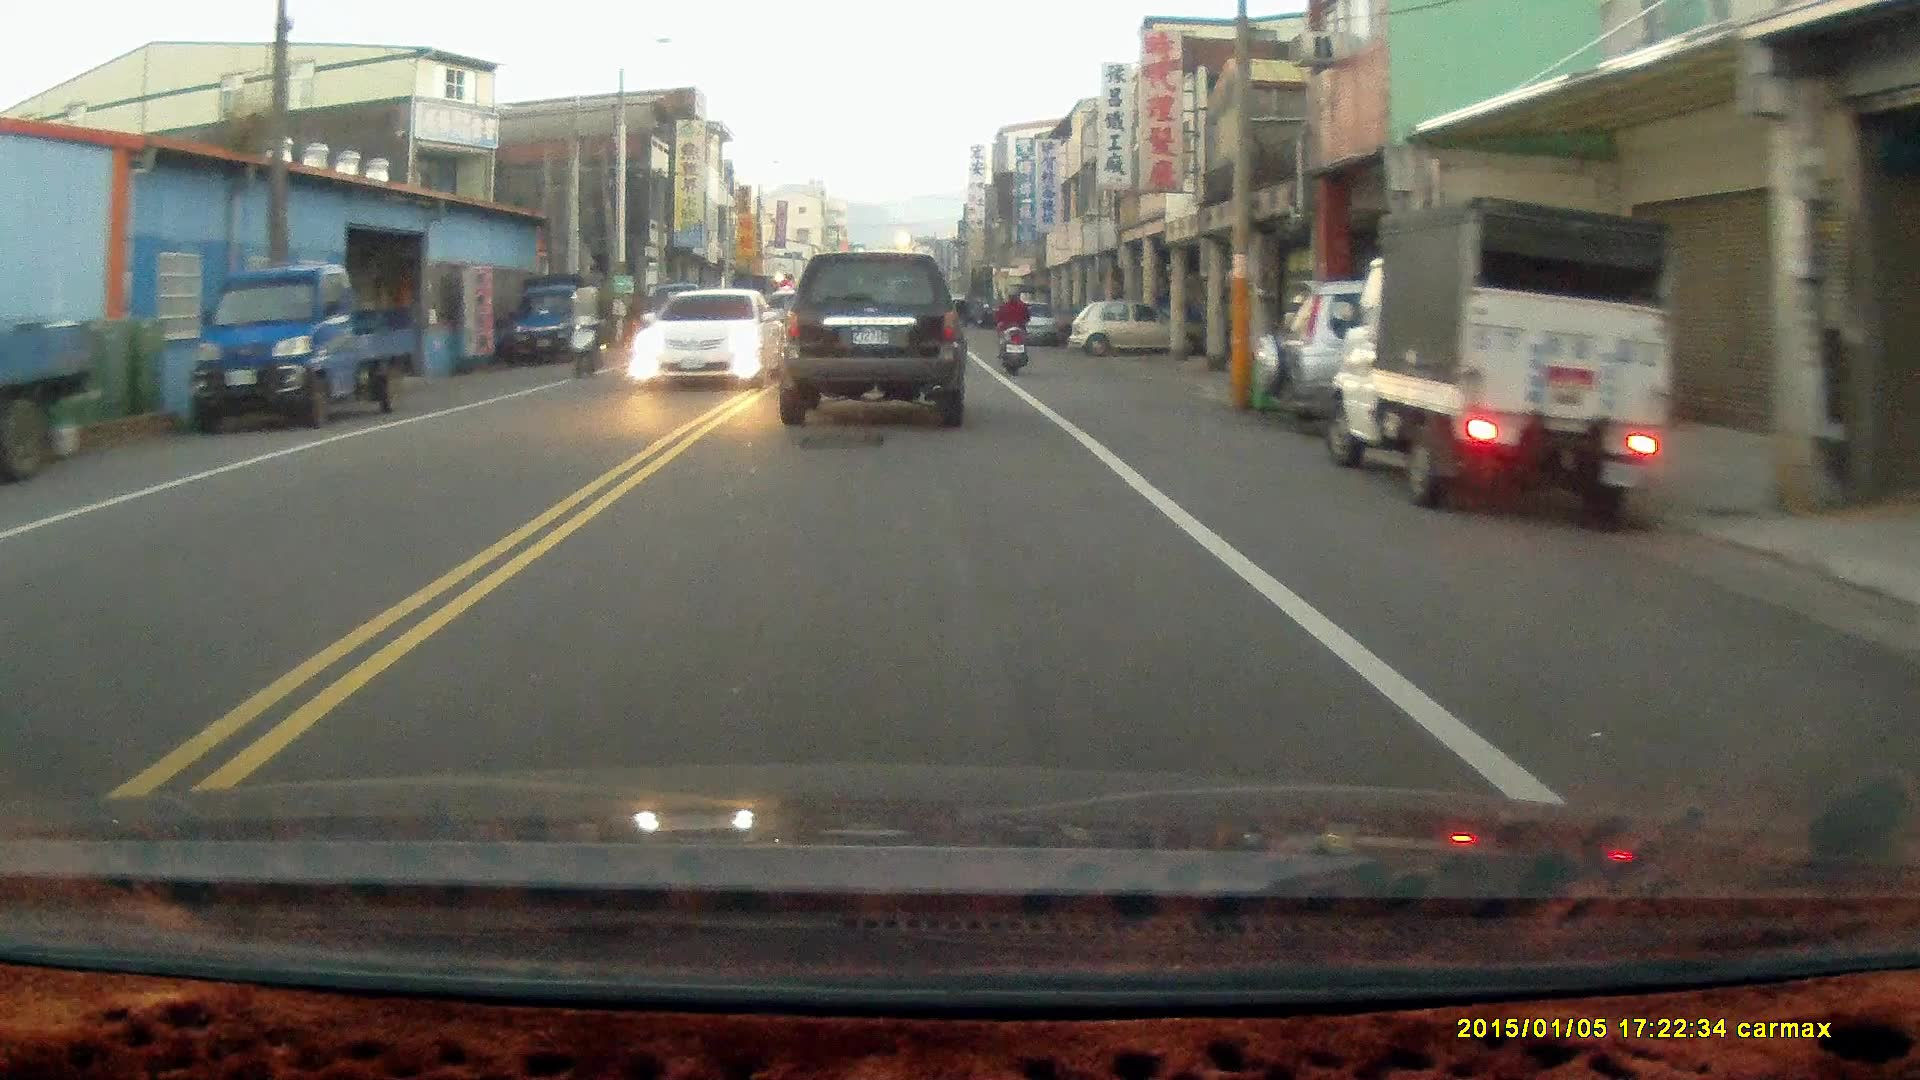rider: (560, 281, 606, 381), (993, 279, 1030, 375)
vehicle: (1333, 193, 1673, 542), (1251, 277, 1619, 433), (189, 270, 424, 431), (775, 253, 971, 430), (1, 265, 100, 489), (634, 289, 787, 391), (501, 273, 619, 367), (1071, 301, 1168, 357)
